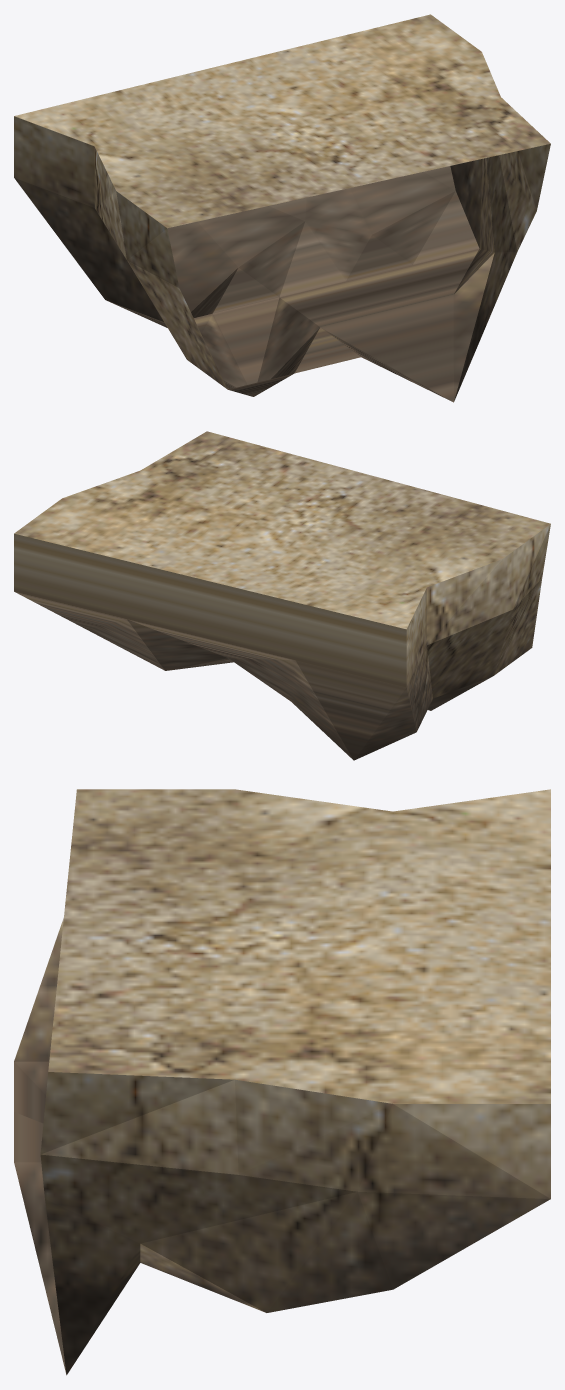
The picture shows the model from 3 angles, top to bottom: view 1: azimuth 30°, elevation 25°; view 2: azimuth 150°, elevation 25°; view 3: azimuth 270°, elevation 25°; orthographic projection. The views are drawn at different scales.
Visible parts, largest first — view 1: SMDImport; view 2: SMDImport; view 3: SMDImport.
Part boxes in pixels (<box>): SMDImport: <box>14,14,550,402</box>; SMDImport: <box>14,431,550,760</box>; SMDImport: <box>14,789,550,1375</box>.
Size of the model in its own units: 473 by 261 by 341.
